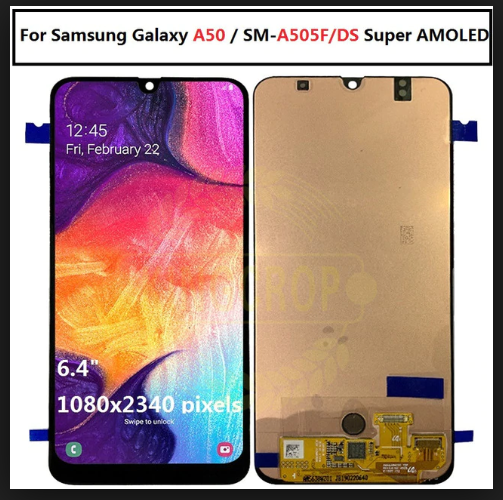Phone: (251, 75, 459, 487), (46, 73, 253, 486)
